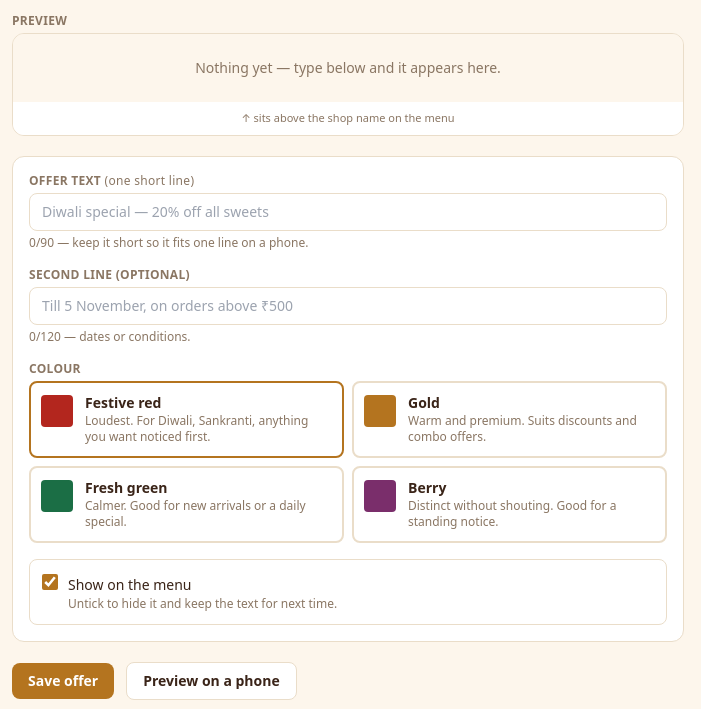
it: the preview › fills in as the text is typed
Type "Diwali sale" into the field labelled "Offer text (one short line)". click: point(348, 212)
box: [29, 192, 667, 230]
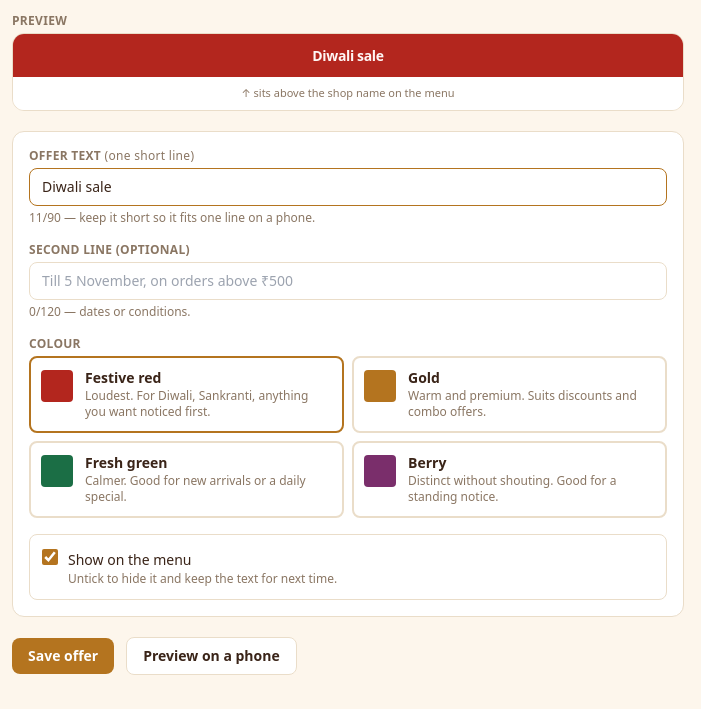
Result: the text "Diwali sale" is shown at [312, 46, 384, 65]
Result: the text "Nothing yet" is gone
